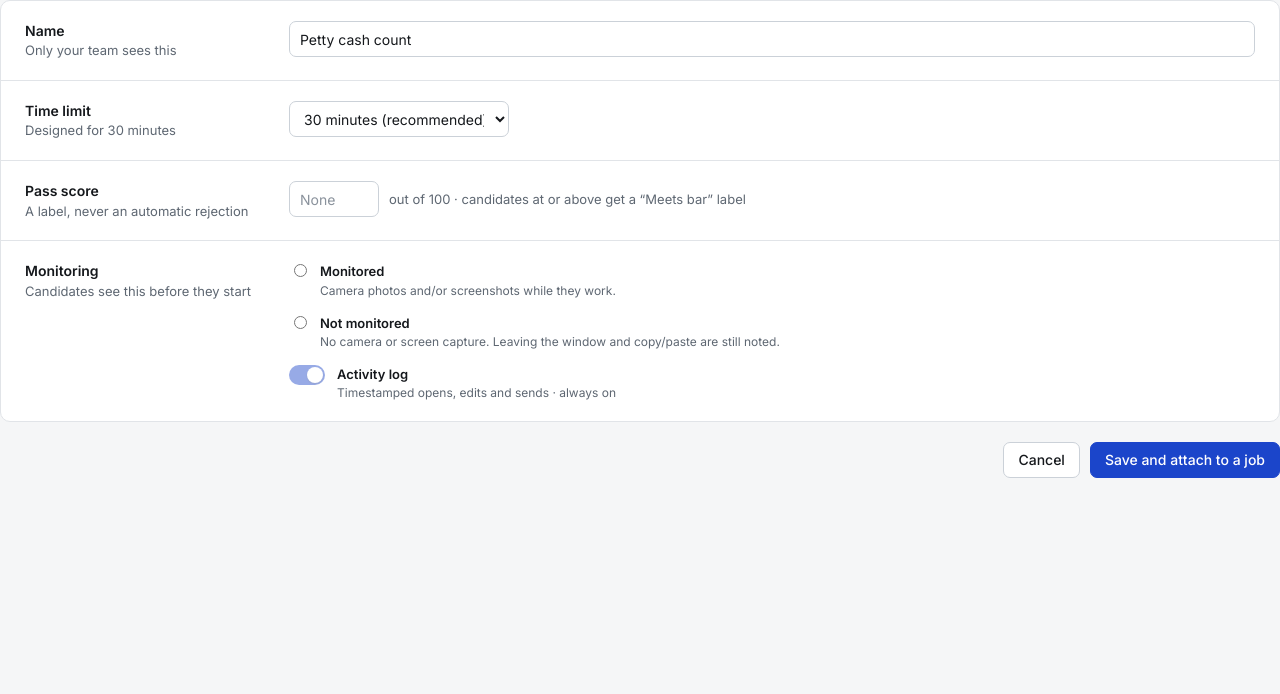
Test case: ConfigureAssessmentForm: from the library › turning the camera off turns gaze off and stops sending it
The width and height of the screenshot is (1280, 694).
Later steps or results of the test are not shown.
Click the radio button labelled "Monitored".
click(300, 271)  # box [294,264,307,277]
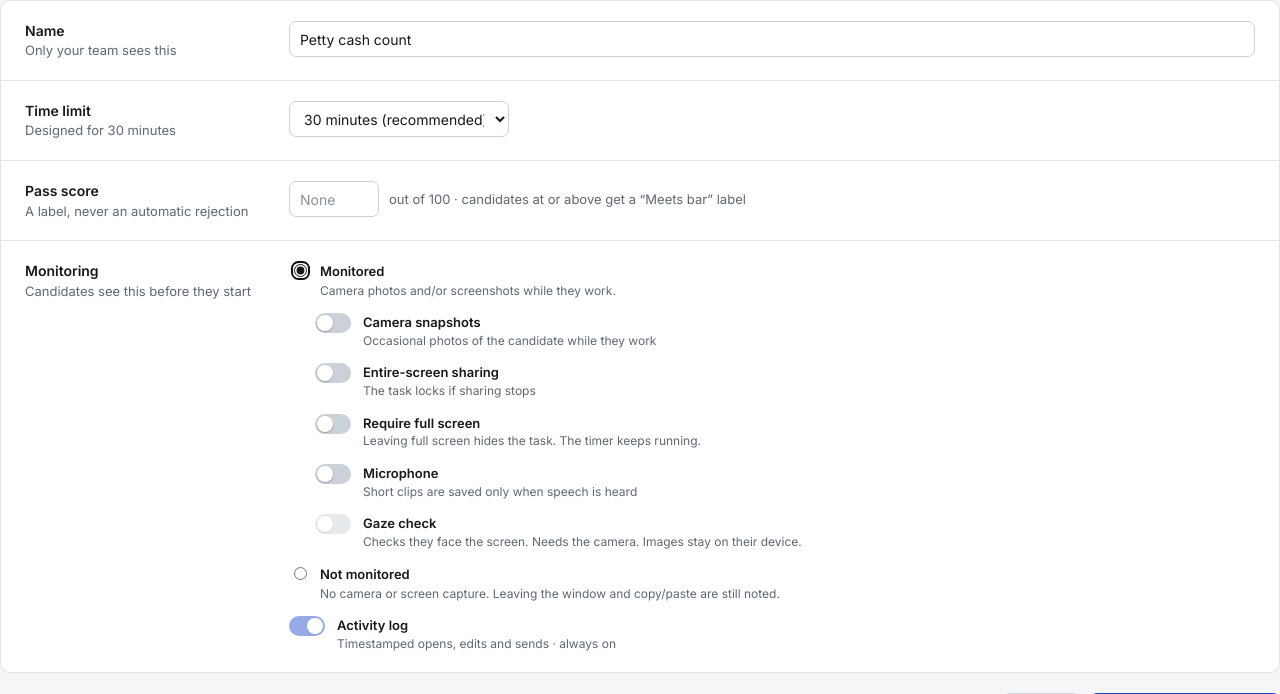
Click the switch named "Camera snapshots".
click(333, 323)  # box [315,313,351,333]
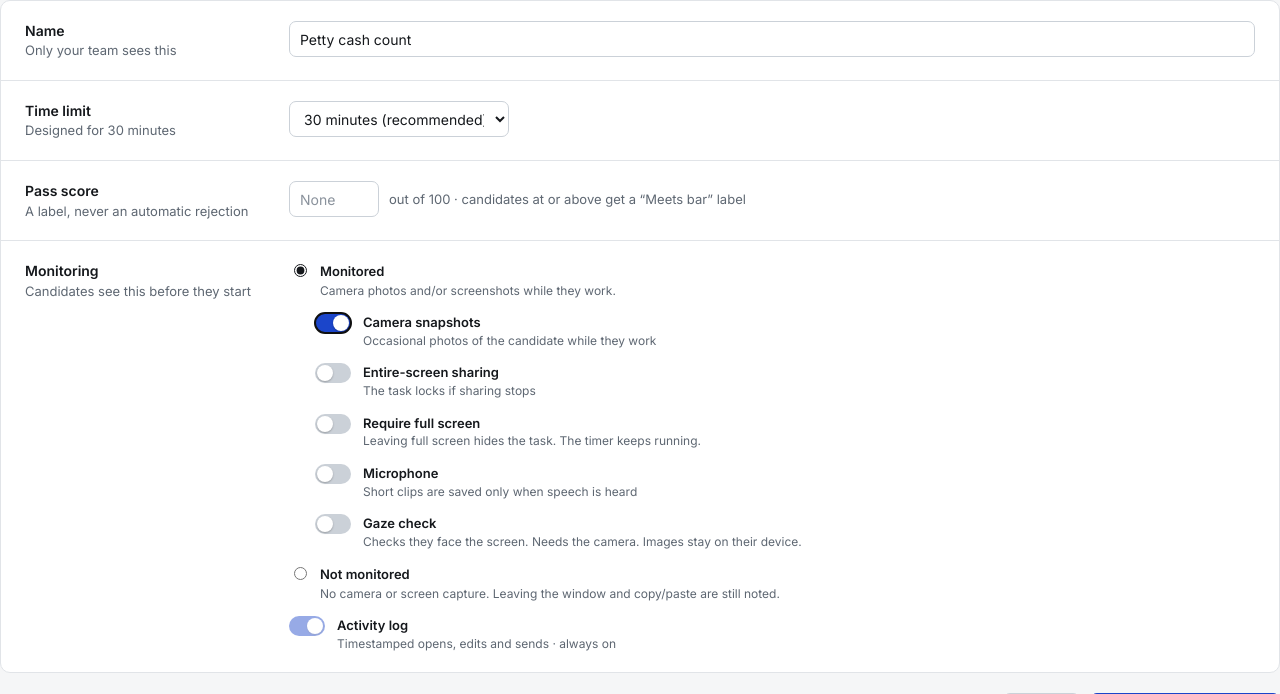
Click the switch named "Gaze check".
click(333, 524)  # box [315,514,351,534]
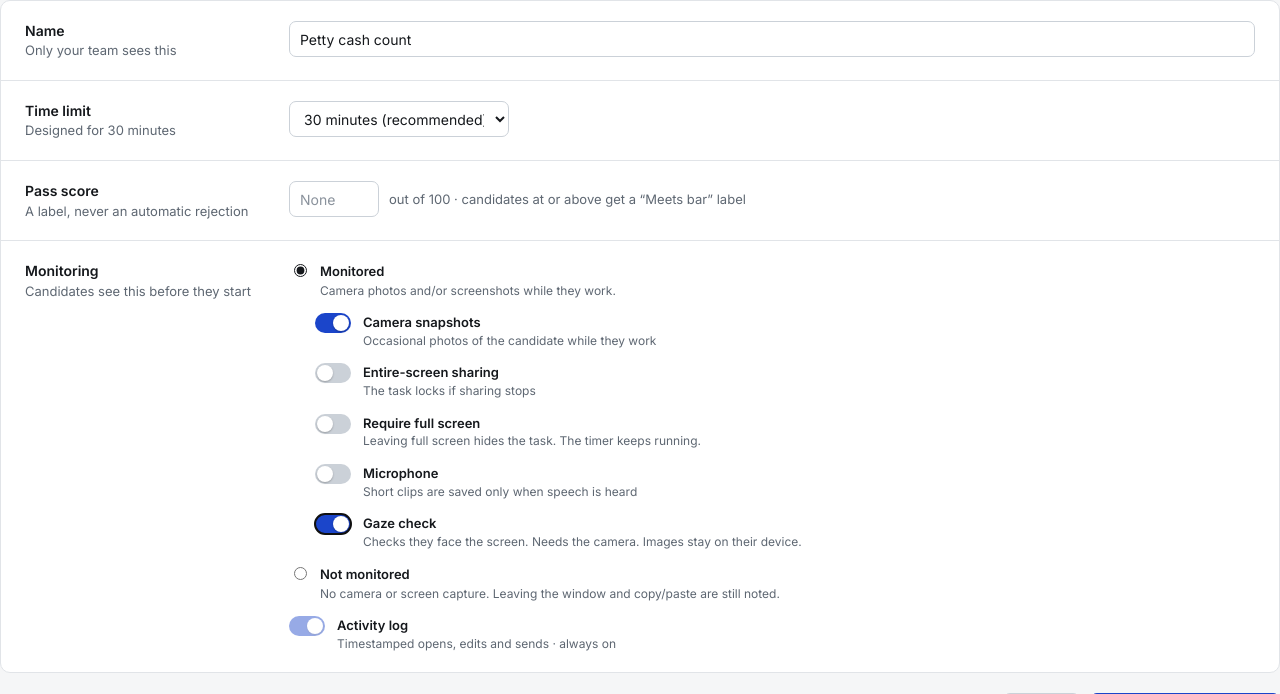
Click the switch named "Camera snapshots".
click(333, 323)  # box [315,313,351,333]
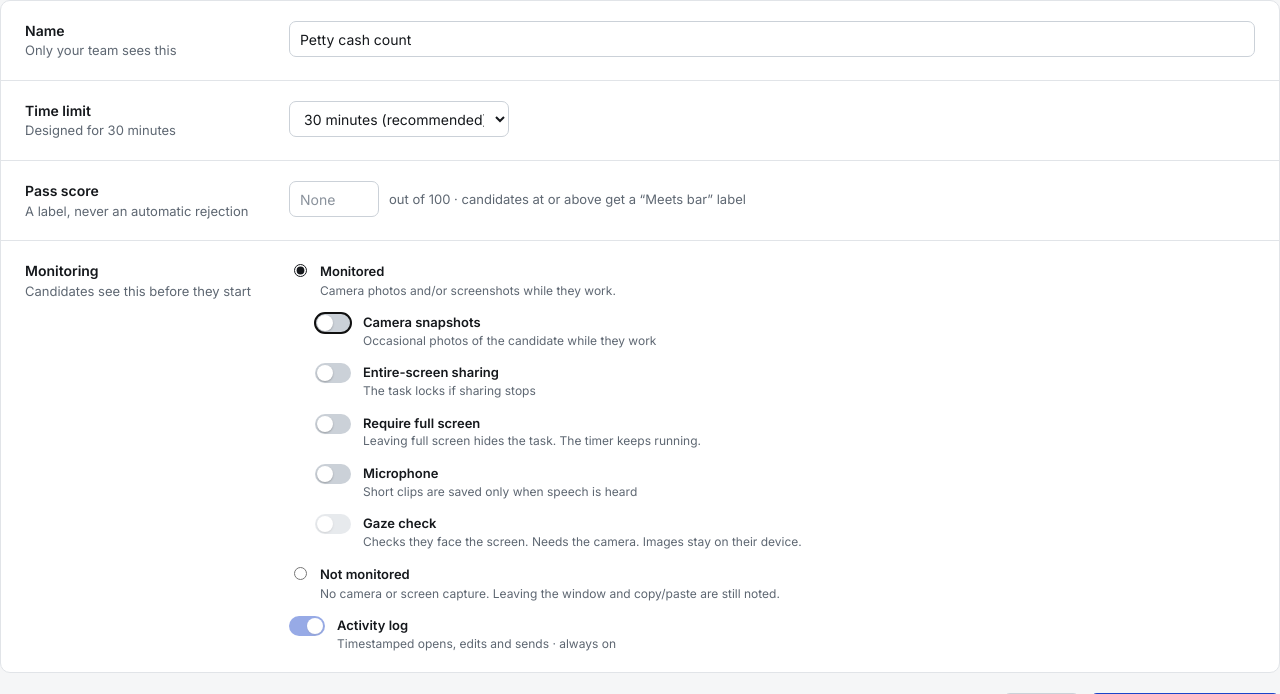
Check: the switch named "Gaze check" is not checked, box [315,514,351,534]
